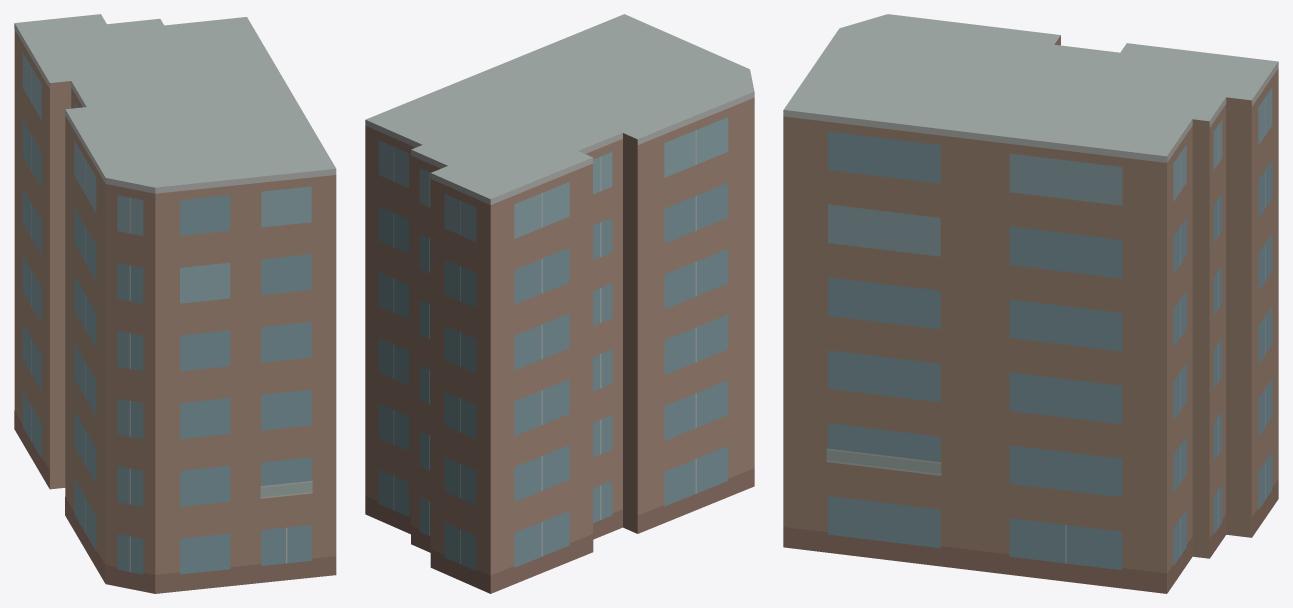
Rendered from survey-upis-32880221.glb.
The picture shows the model from 3 angles, left to right: view 1: azimuth 30°, elevation 25°; view 2: azimuth 150°, elevation 25°; view 3: azimuth 270°, elevation 25°; orthographic projection. The views are drawn at different scales.
Visible parts, largest first — view 1: survey-upis-32880221.tmp; view 2: survey-upis-32880221.tmp; view 3: survey-upis-32880221.tmp.
Boxes of the visible parts, bbox=[...] form: survey-upis-32880221.tmp: bbox=[14, 14, 336, 593]; survey-upis-32880221.tmp: bbox=[365, 14, 754, 593]; survey-upis-32880221.tmp: bbox=[783, 14, 1278, 593].
Bounding box in the file's own units: 11.39 × 16.3 × 16.73.
